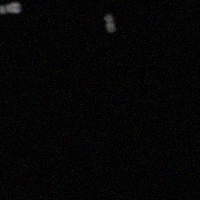chromosome: (0, 2, 22, 16), (104, 14, 116, 34)
